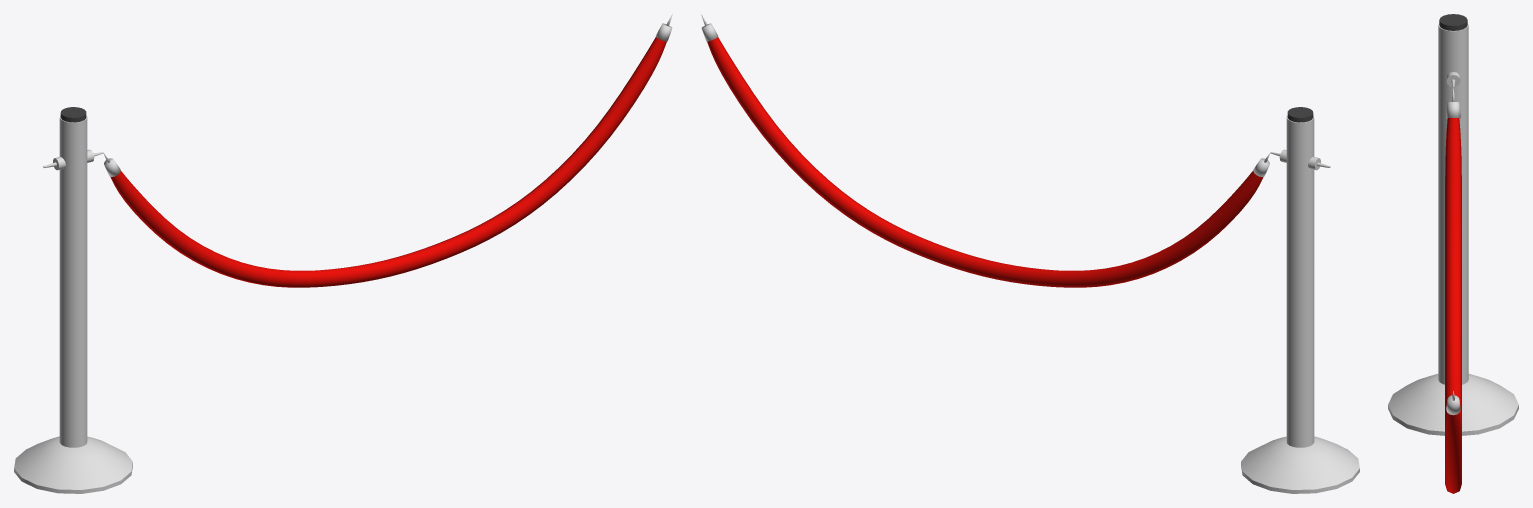
Rendered from guardrail.fbx.
3 views of the same model, side by side, from view 1: azimuth 30°, elevation 25°; view 2: azimuth 150°, elevation 25°; view 3: azimuth 270°, elevation 25° (orthographic). The views are drawn at different scales.
Parts seen in each view (by area): view 1: guardrail, rope; view 2: guardrail, rope; view 3: guardrail, rope.
Part boxes in pixels (bbox=[...]): guardrail: bbox=[14, 107, 132, 493]; rope: bbox=[103, 14, 672, 287]; guardrail: bbox=[1241, 107, 1359, 493]; rope: bbox=[701, 14, 1270, 287]; guardrail: bbox=[1388, 14, 1518, 435]; rope: bbox=[1445, 88, 1461, 493].
Bounding box in the file's own units: 1.94 × 1.01 × 0.309.
